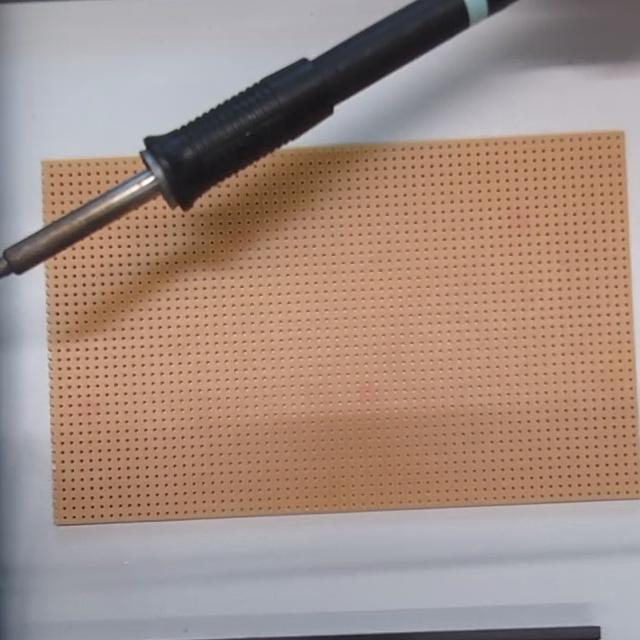soldering_iron: (0, 0, 522, 272)
